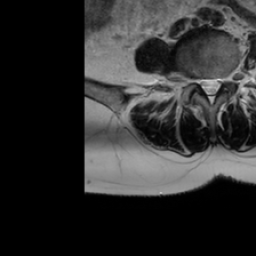CCS_normal: (206, 70, 214, 109)
LFS_stenosis: (222, 66, 230, 90)
LLS_normal: (214, 70, 222, 99)
RFS_stenosis: (190, 68, 198, 91)
RLS_normal: (198, 69, 206, 99)
